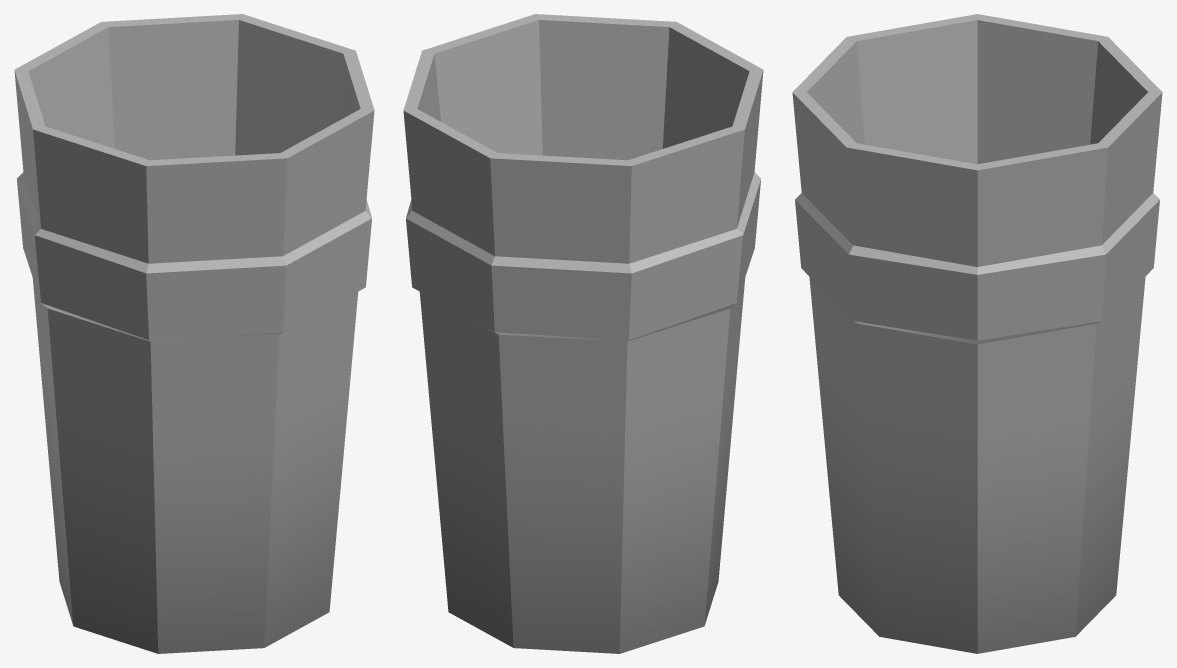
File: Bin.fbx
The picture shows the model from 3 angles, left to right: view 1: azimuth 30°, elevation 25°; view 2: azimuth 150°, elevation 25°; view 3: azimuth 270°, elevation 25°; orthographic projection.
Parts seen in each view (by area): view 1: Bin; view 2: Bin; view 3: Bin.
Part boxes in pixels (x1=…): Bin: x1=14, y1=14, x2=374, y2=653; Bin: x1=403, y1=14, x2=763, y2=653; Bin: x1=792, y1=14, x2=1162, y2=653.
Bounding box in the file's own units: 40 × 60 × 40.
